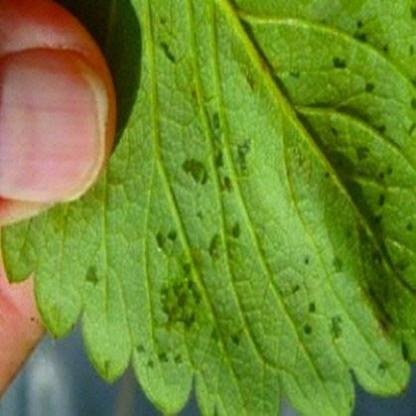Strawberry_Angular_LeafSpot: (73, 0, 416, 395)
